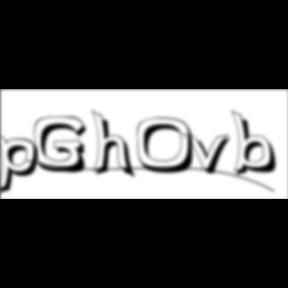G: (34, 116, 94, 176)
O: (136, 117, 202, 176)
b: (231, 109, 284, 179)
h: (92, 108, 138, 182)
p: (0, 132, 46, 198)
v: (183, 131, 237, 177)
